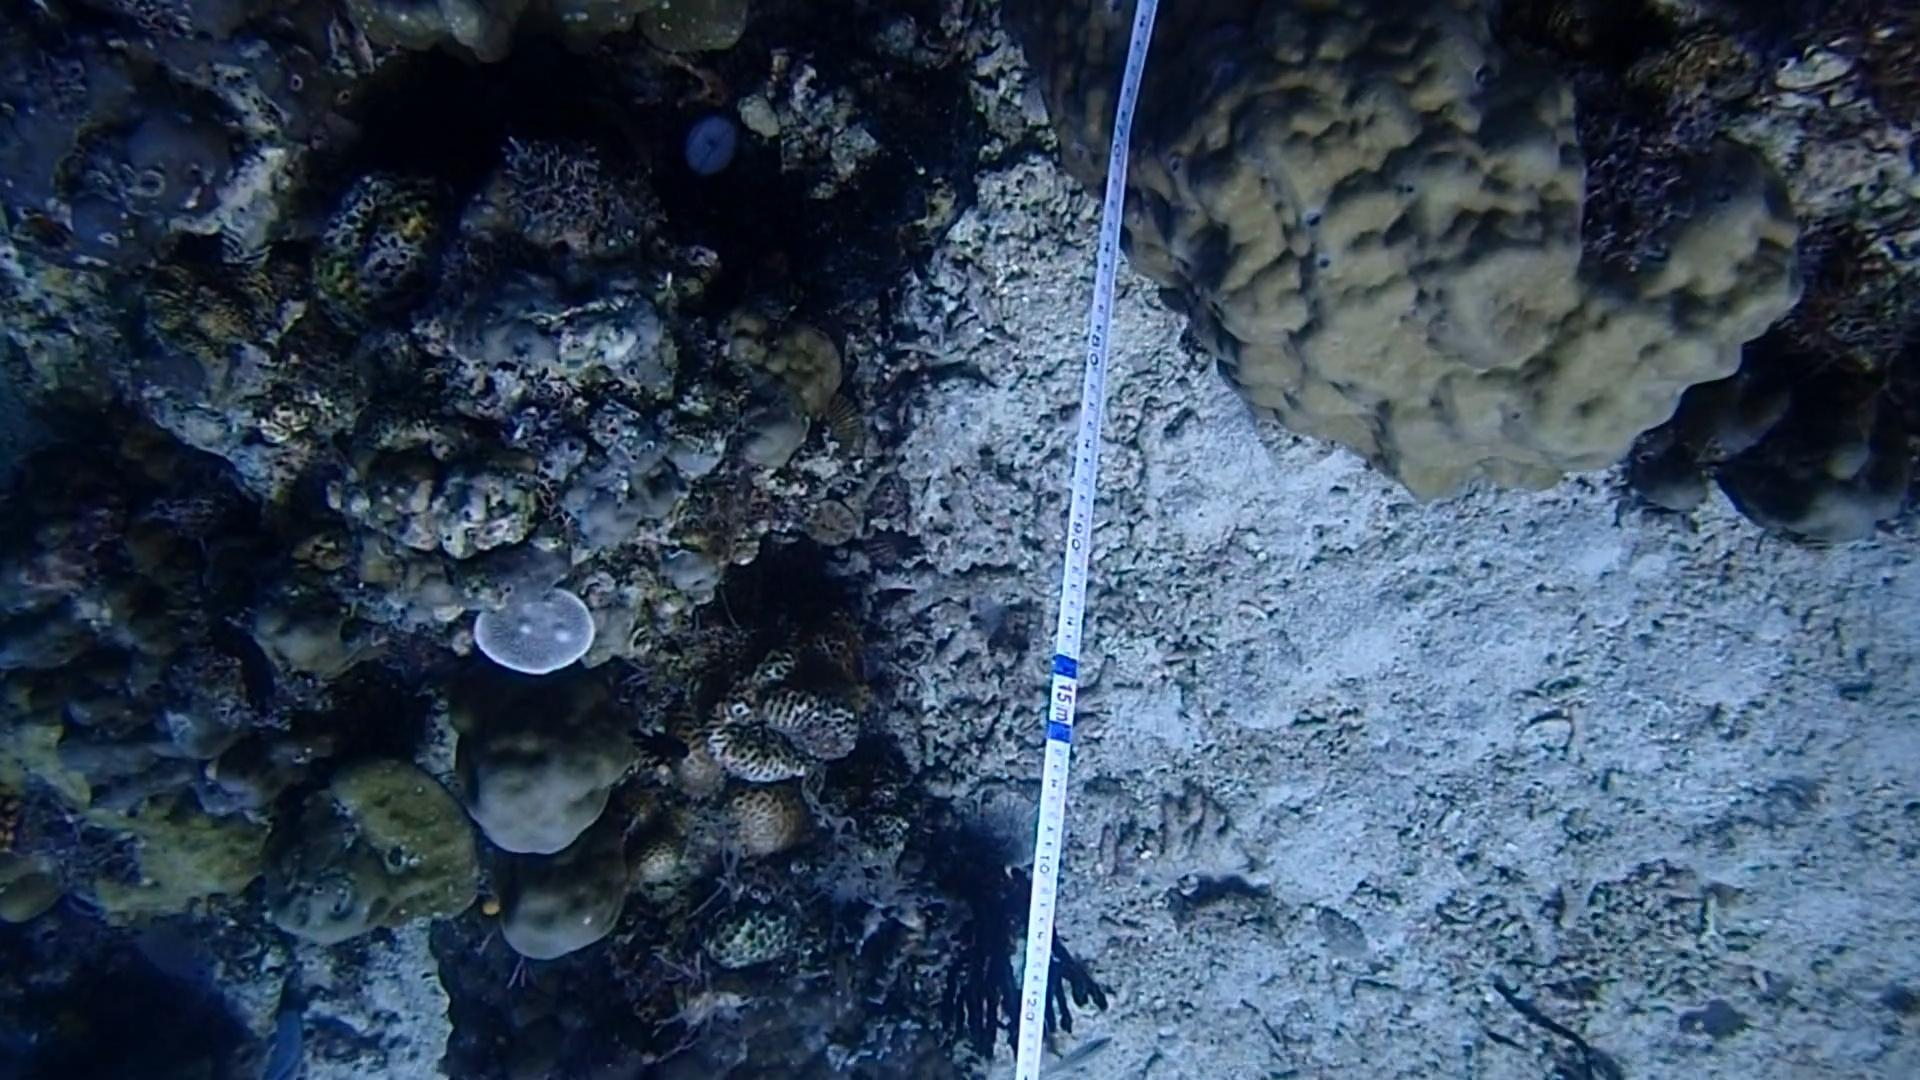Dark Fish: (227, 629, 293, 721), (629, 717, 703, 781)
